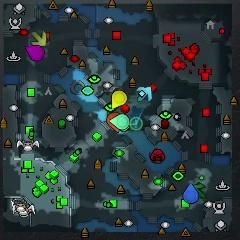Other: (130, 117, 143, 131)
p1: (183, 182, 198, 203)
p2: (110, 114, 130, 131)
p3: (25, 45, 45, 61)
p4: (112, 89, 127, 110)
p5: (107, 113, 120, 133)
x2: (31, 31, 47, 46)
x3: (136, 86, 152, 101)
x4: (193, 183, 205, 198)
